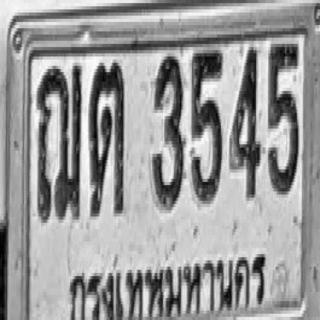A12: (36, 61, 82, 221)
A21: (89, 60, 124, 216)
N03: (152, 53, 184, 207)
N04: (230, 44, 260, 198)
N05: (191, 47, 222, 204), (268, 41, 299, 195)
P04: (59, 238, 273, 320)
